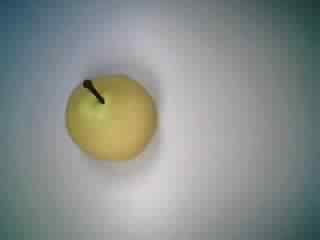pear: (55, 63, 164, 166)
